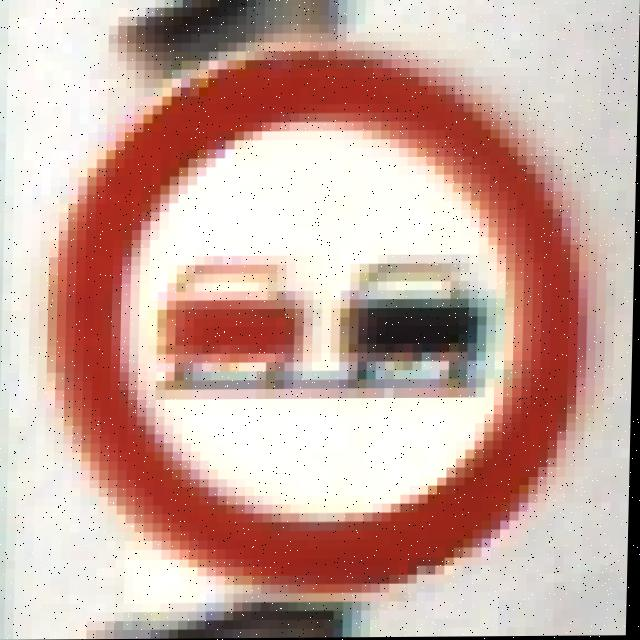no_overtaking: (76, 44, 596, 584)
